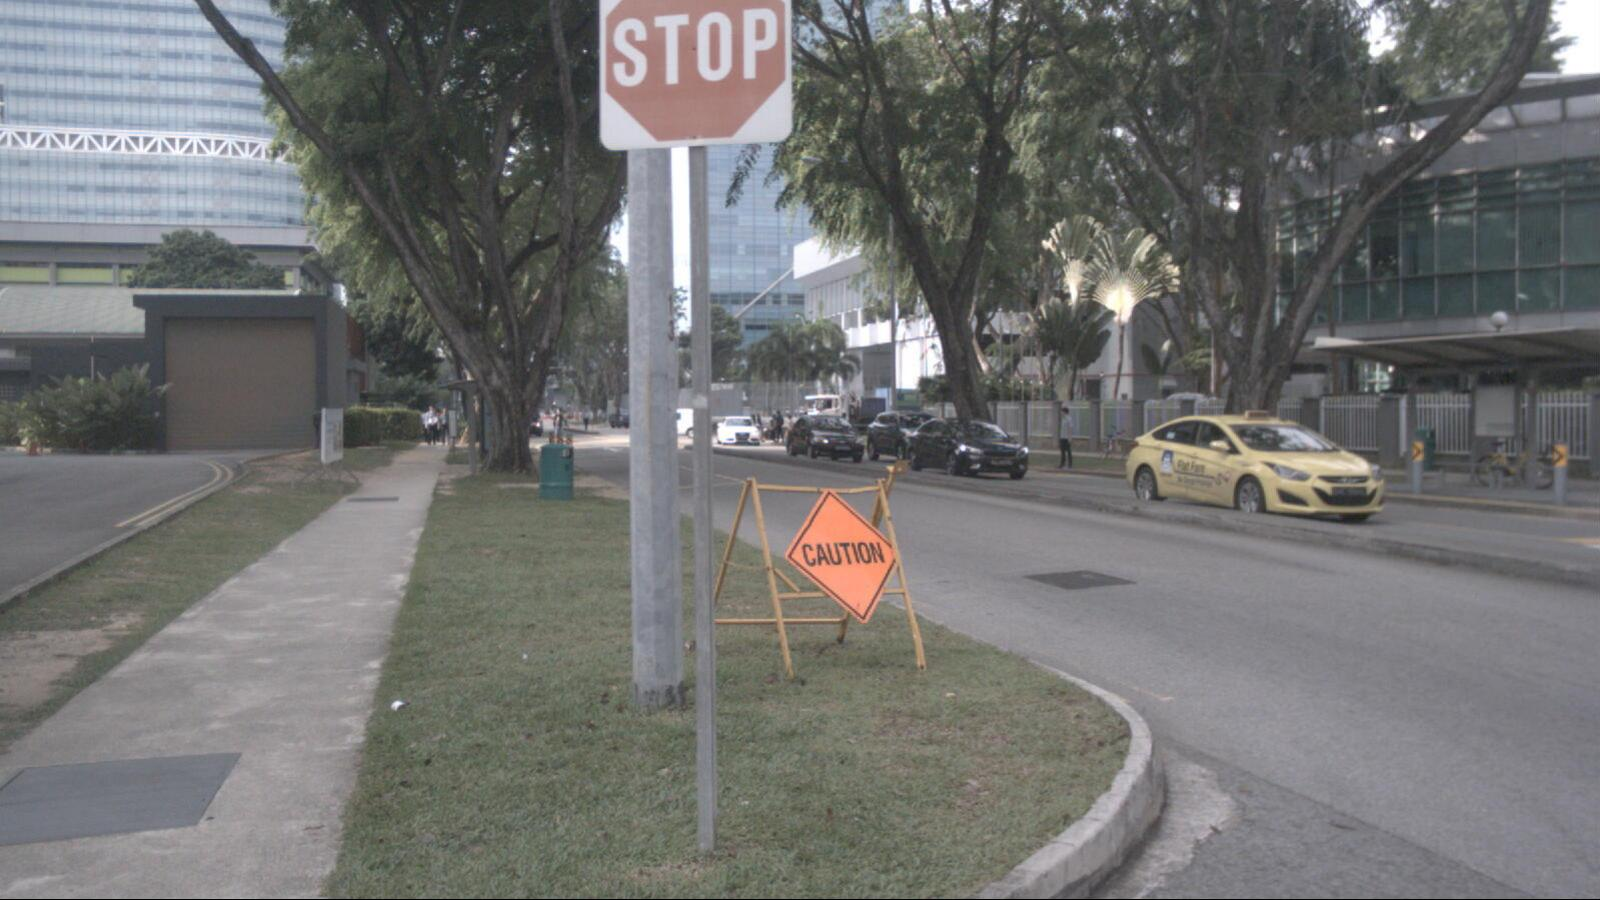human.pedestrian.adult-pedestrian.moving: (424, 405, 439, 446), (438, 408, 451, 446), (582, 408, 590, 432)
human.pedestrian.adult-pedestrian.standing: (552, 408, 564, 445), (773, 410, 784, 443)
